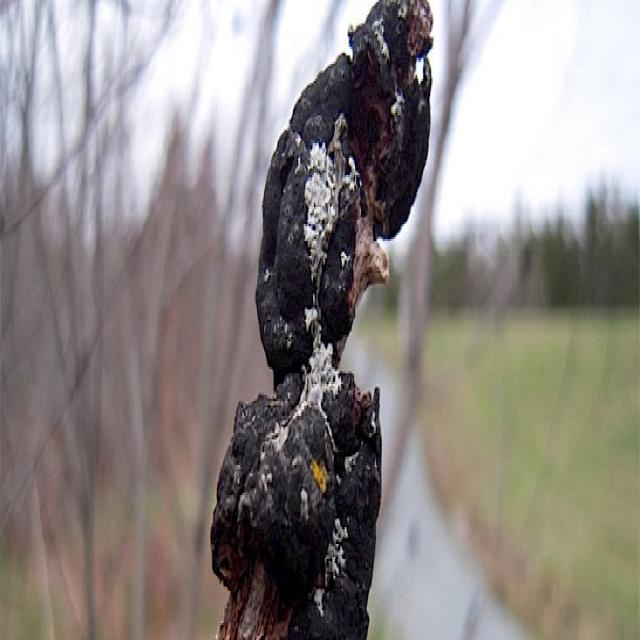Black_knot: (209, 0, 434, 634)
